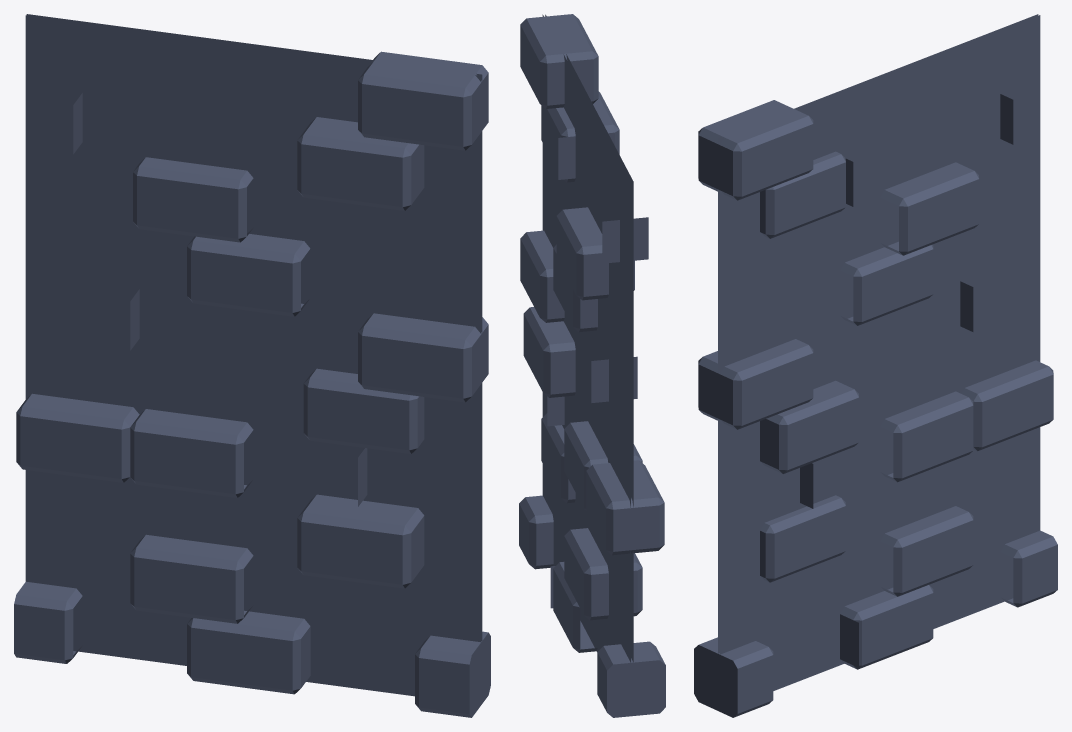
File: n2_brick_wall_lev2.005.glb
3 views of the same model, side by side, from view 1: azimuth 30°, elevation 25°; view 2: azimuth 150°, elevation 25°; view 3: azimuth 270°, elevation 25° (orthographic). The views are drawn at different scales.
Visible parts, largest first — view 1: n2_brick_wall_lev2.005; view 2: n2_brick_wall_lev2.005; view 3: n2_brick_wall_lev2.005.
Part boxes in pixels (x1,y1,x2,y2): n2_brick_wall_lev2.005: (14,14,490,717); n2_brick_wall_lev2.005: (519,14,665,717); n2_brick_wall_lev2.005: (694,14,1057,717).
Size of the model in its own units: 1.65 by 3.06 by 1.76.
